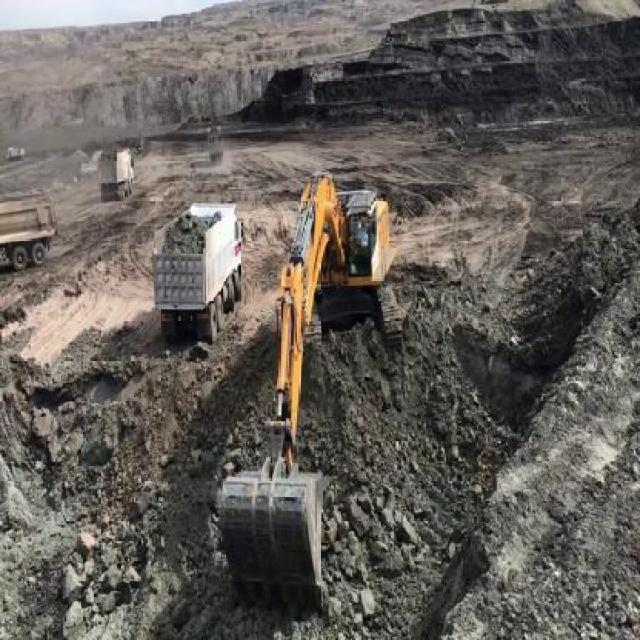dump_truck: (155, 201, 240, 348), (0, 198, 58, 264), (99, 146, 132, 202), (208, 129, 221, 154)
excavator: (218, 167, 394, 613)
